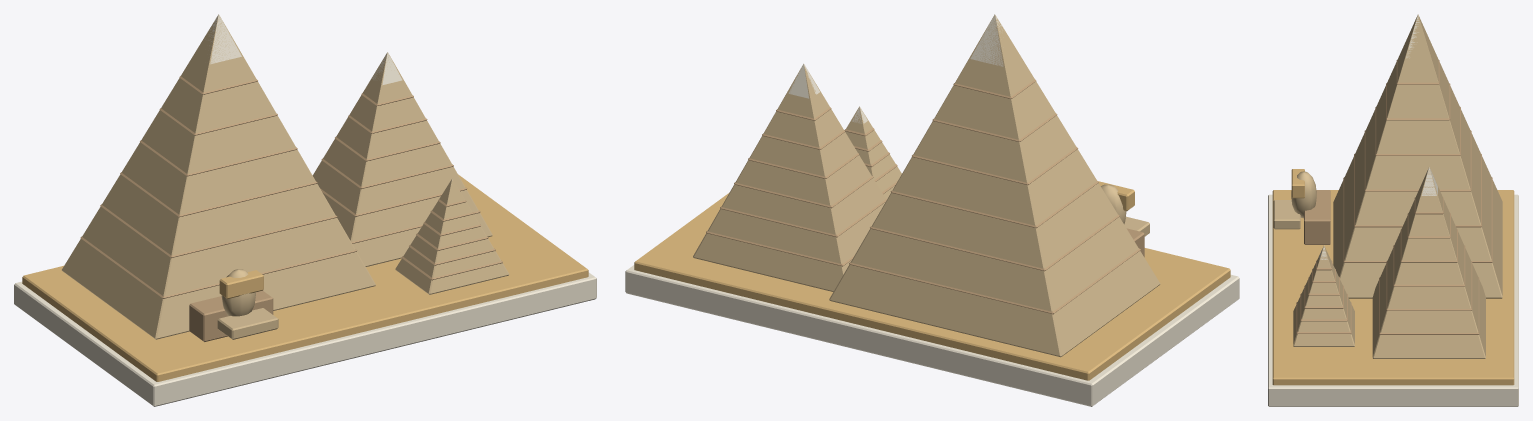
Rendered from pyramids-of-giza.glb.
The picture shows the model from 3 angles, left to right: view 1: azimuth 30°, elevation 25°; view 2: azimuth 150°, elevation 25°; view 3: azimuth 270°, elevation 25°; orthographic projection. The views are drawn at different scales.
Parts seen in each view (by area): view 1: Pyramids of Giza; view 2: Pyramids of Giza; view 3: Pyramids of Giza.
Boxes of the visible parts, <box> form: Pyramids of Giza: <box>14,14,596,406</box>; Pyramids of Giza: <box>625,14,1239,406</box>; Pyramids of Giza: <box>1268,14,1518,406</box>.
Bounding box in the file's own units: 1.47 × 0.94 × 0.8064.
